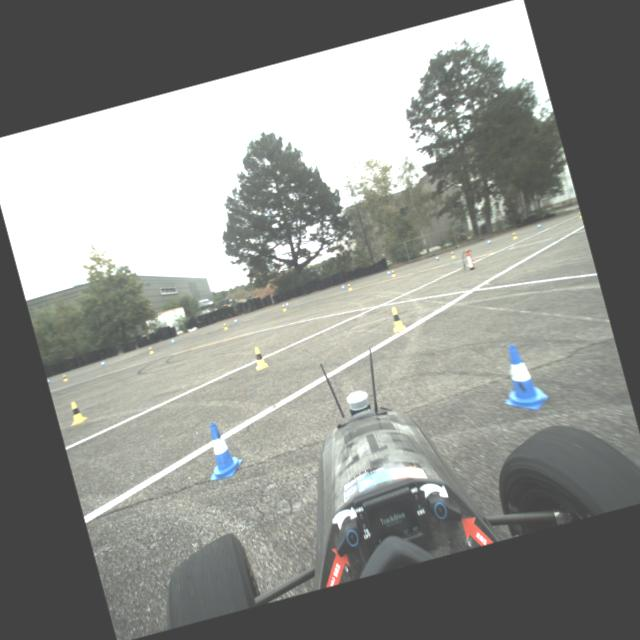blue_cone: (490, 338, 551, 418), (196, 418, 246, 482), (99, 358, 106, 366), (284, 300, 289, 308), (386, 268, 391, 276), (232, 317, 238, 323), (170, 337, 175, 344), (486, 237, 491, 244), (340, 282, 344, 290), (536, 222, 541, 228), (434, 253, 438, 260)
yellow_cone: (63, 397, 90, 426), (386, 304, 407, 334), (250, 344, 268, 370), (61, 372, 68, 382), (280, 302, 286, 312), (148, 345, 154, 354), (511, 230, 516, 240), (347, 282, 352, 292), (450, 250, 456, 258), (390, 268, 396, 276), (222, 322, 228, 330), (577, 210, 582, 218)
